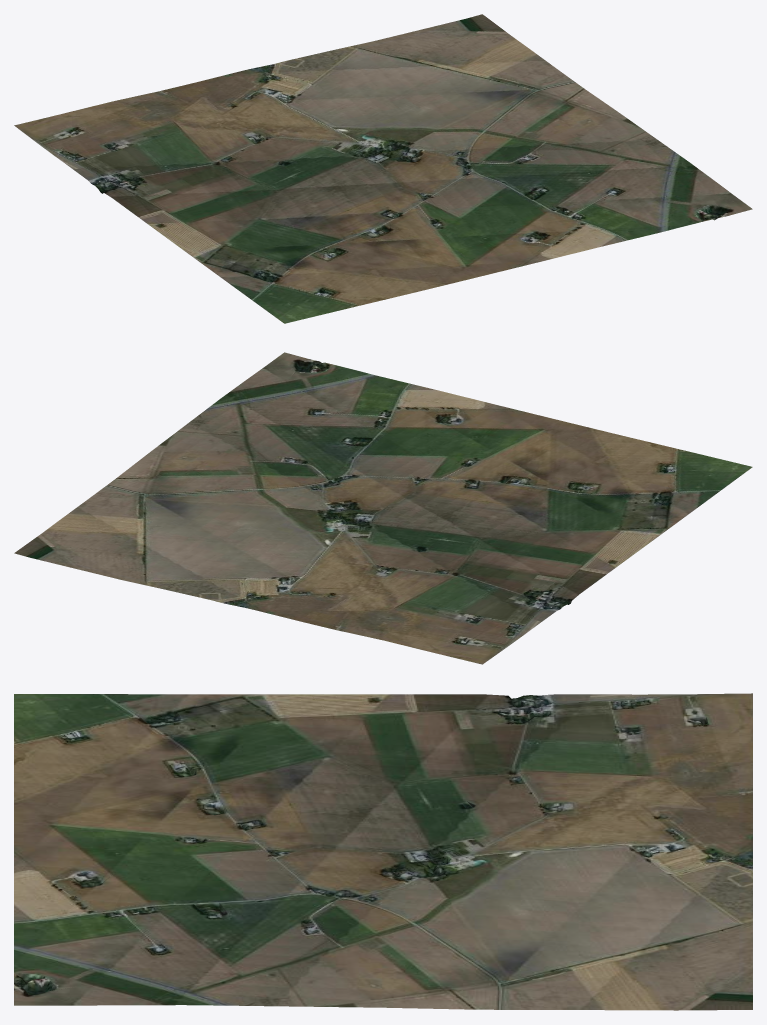
The model's file is map_10_253_430.dae.
The picture shows the model from 3 angles, top to bottom: view 1: azimuth 30°, elevation 25°; view 2: azimuth 150°, elevation 25°; view 3: azimuth 270°, elevation 25°; orthographic projection. The views are drawn at different scales.
Visible parts, largest first — view 1: Ter0; view 2: Ter0; view 3: Ter0.
Part boxes in pixels (x1=…): Ter0: x1=14, y1=14, x2=752, y2=323; Ter0: x1=14, y1=352, x2=752, y2=664; Ter0: x1=14, y1=693, x2=752, y2=1010.
Size of the model in its own units: 2044 by 2044 by 24.06.
Materials: 3 (3 with a texture image).
